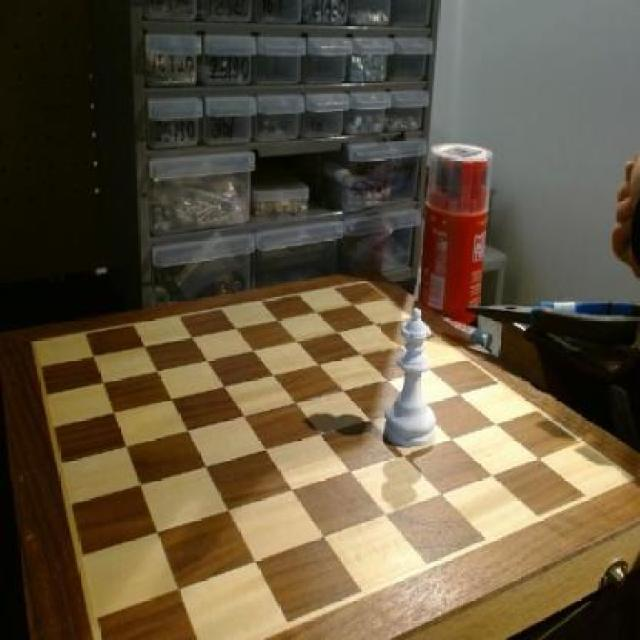white-pawn: (382, 301, 441, 457)
